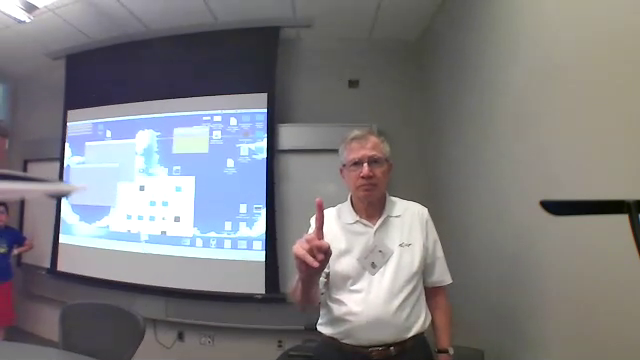up: (279, 193, 340, 280)
